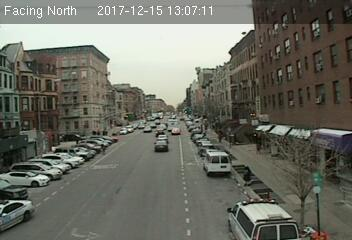bicycle: (99, 144, 109, 157)
car: (202, 150, 233, 176), (153, 140, 169, 151), (172, 127, 182, 135), (155, 129, 166, 136), (143, 126, 151, 133)
pedestrian: (241, 165, 252, 187)
police: (227, 197, 300, 240), (1, 197, 35, 232)
truck: (167, 119, 178, 130)
